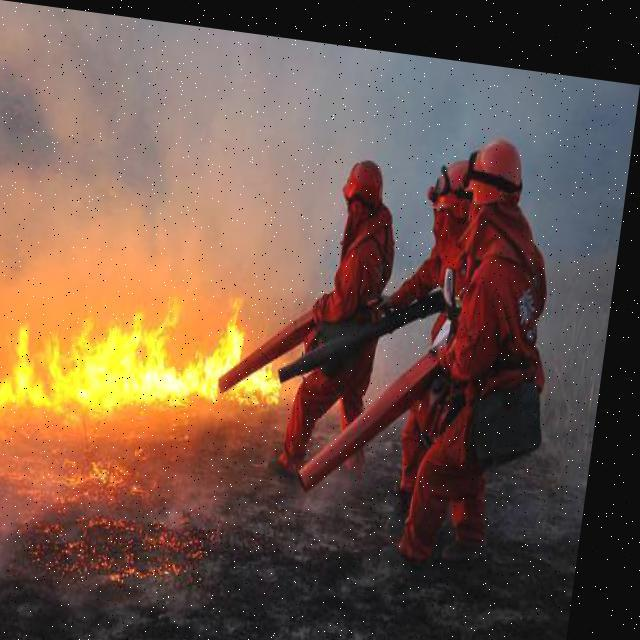Fire: (0, 255, 306, 442)
